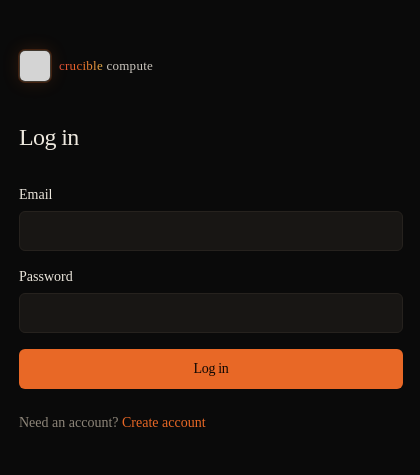
auth pages › shows animated login feedback while credentials are being checked
Type "judge@example.com" into the field labelled "Email". click: (211, 230)
box: [19,210,403,250]
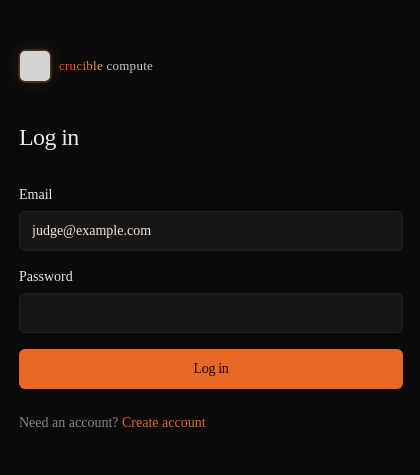
Type "correct horse battery staple" into the password field labelled "Password". click: (211, 312)
box: [19,292,403,332]
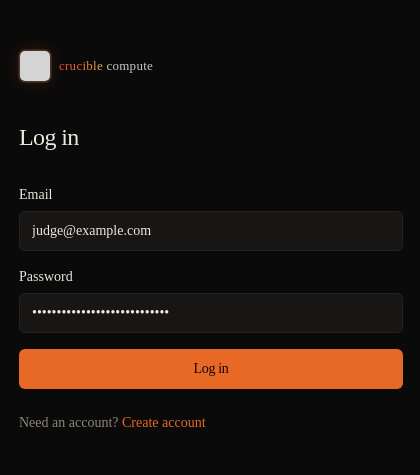
Click the button "Log in". click: (211, 368)
box: [19,348,403,388]
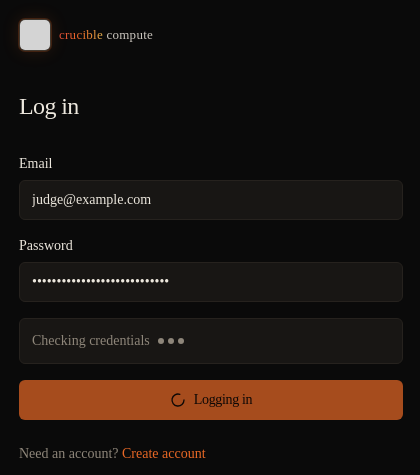
Expected: the message named "Login in progress" reads "Checking credentials", [32,332,150,348]
Expected: the button "Logging in" is disabled, [19,380,403,420]
